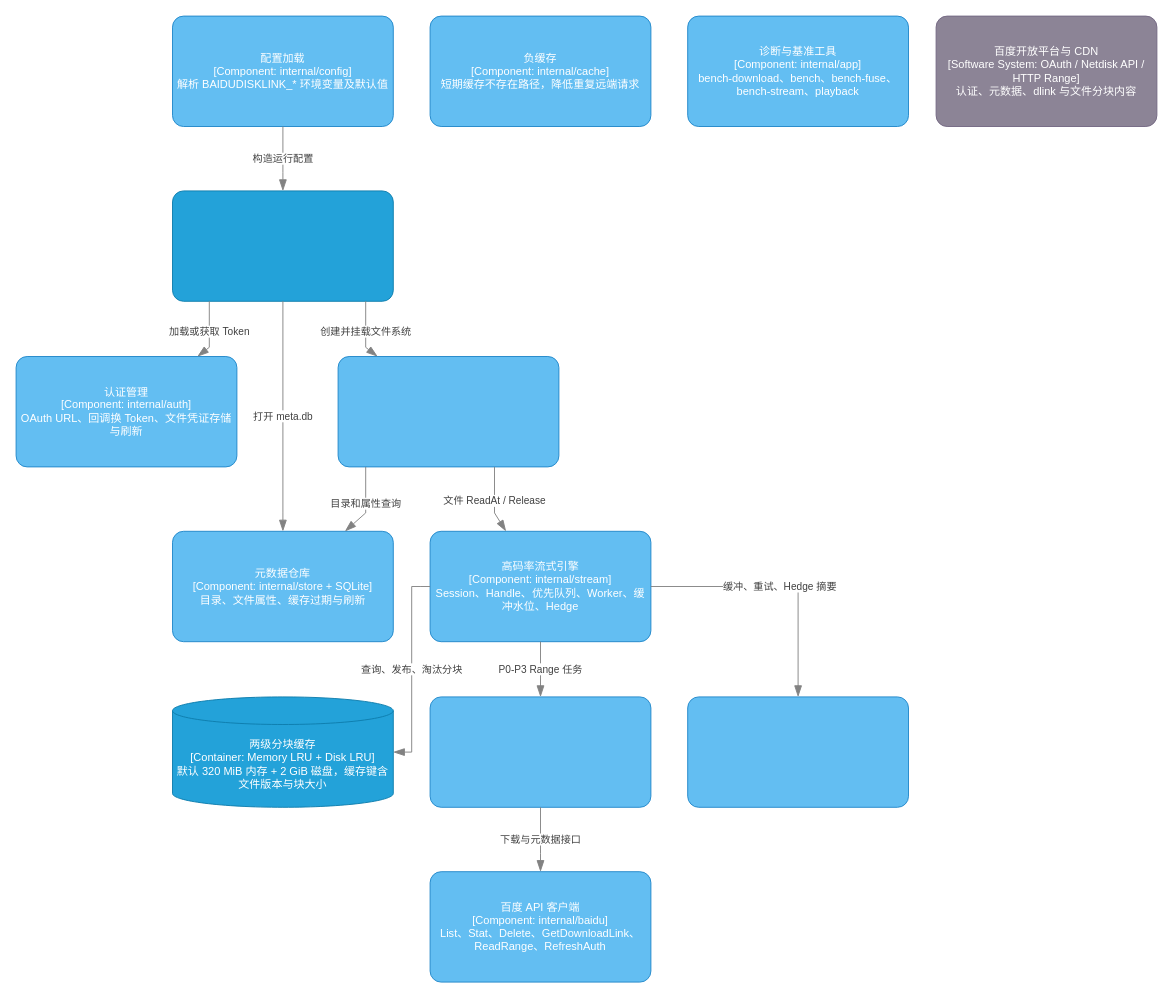
Image size: 1173x998. Some labels were removed from this diagram. The centre of each missing label's shape, as x and y in pixels:
FUSE 文件系统 [Component: internal/fs] Lookup、Getattr、Readdir、Open、Read、Release、可选删除: (448,411)
可观测性 [Component: internal/logging + 聚合日志] stream summary、FUSE 慢读摘要、benchmark 指标: (797,751)
应用编排 [Container: internal/app] 组装认证、存储、远端、流式引擎和 FUSE: (282,245)
远端读取层 [Component: internal/remote] 精确 Range、旧 bench 并发读取、dlink 缓存和错误分类: (540,751)
